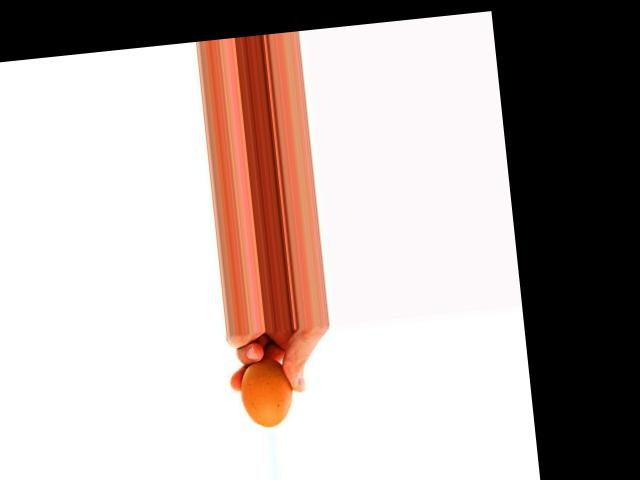egg: (237, 357, 295, 429)
